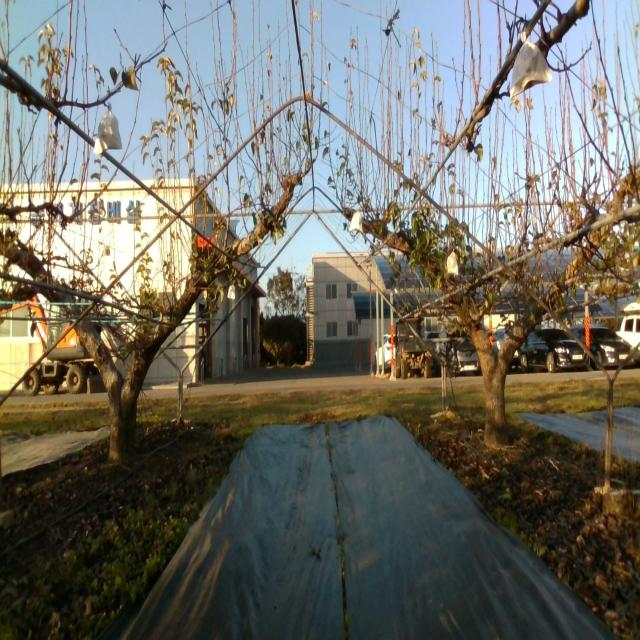pearbags: (509, 31, 552, 101), (92, 102, 124, 157), (446, 248, 460, 278), (349, 211, 364, 236)
